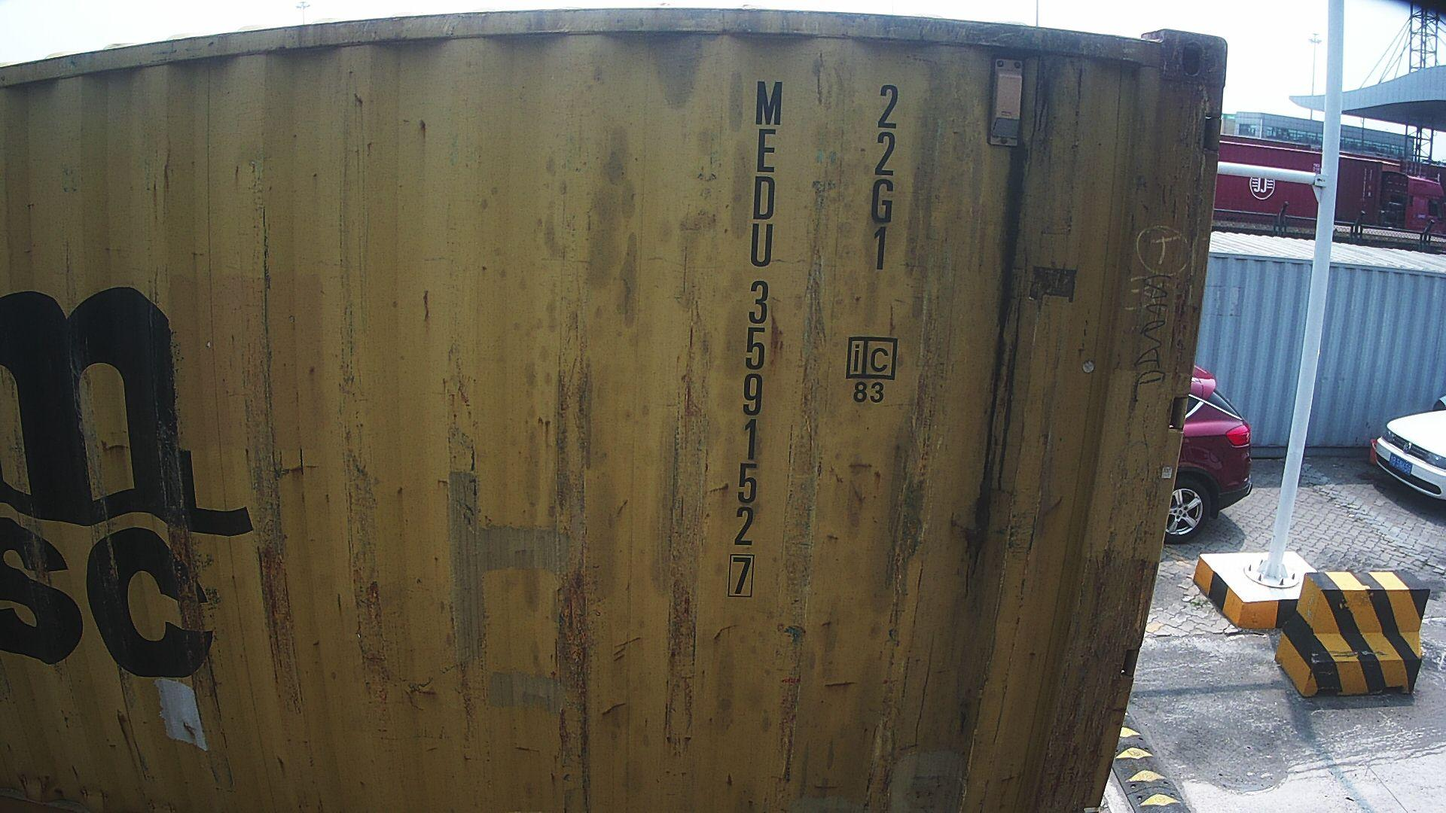container-numbers: (725, 75, 785, 603), (866, 81, 904, 279)
